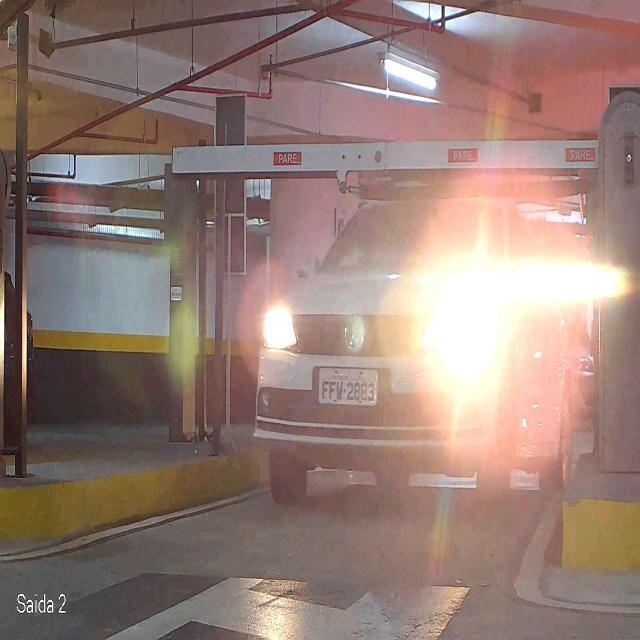old_plate: (316, 366, 380, 408)
